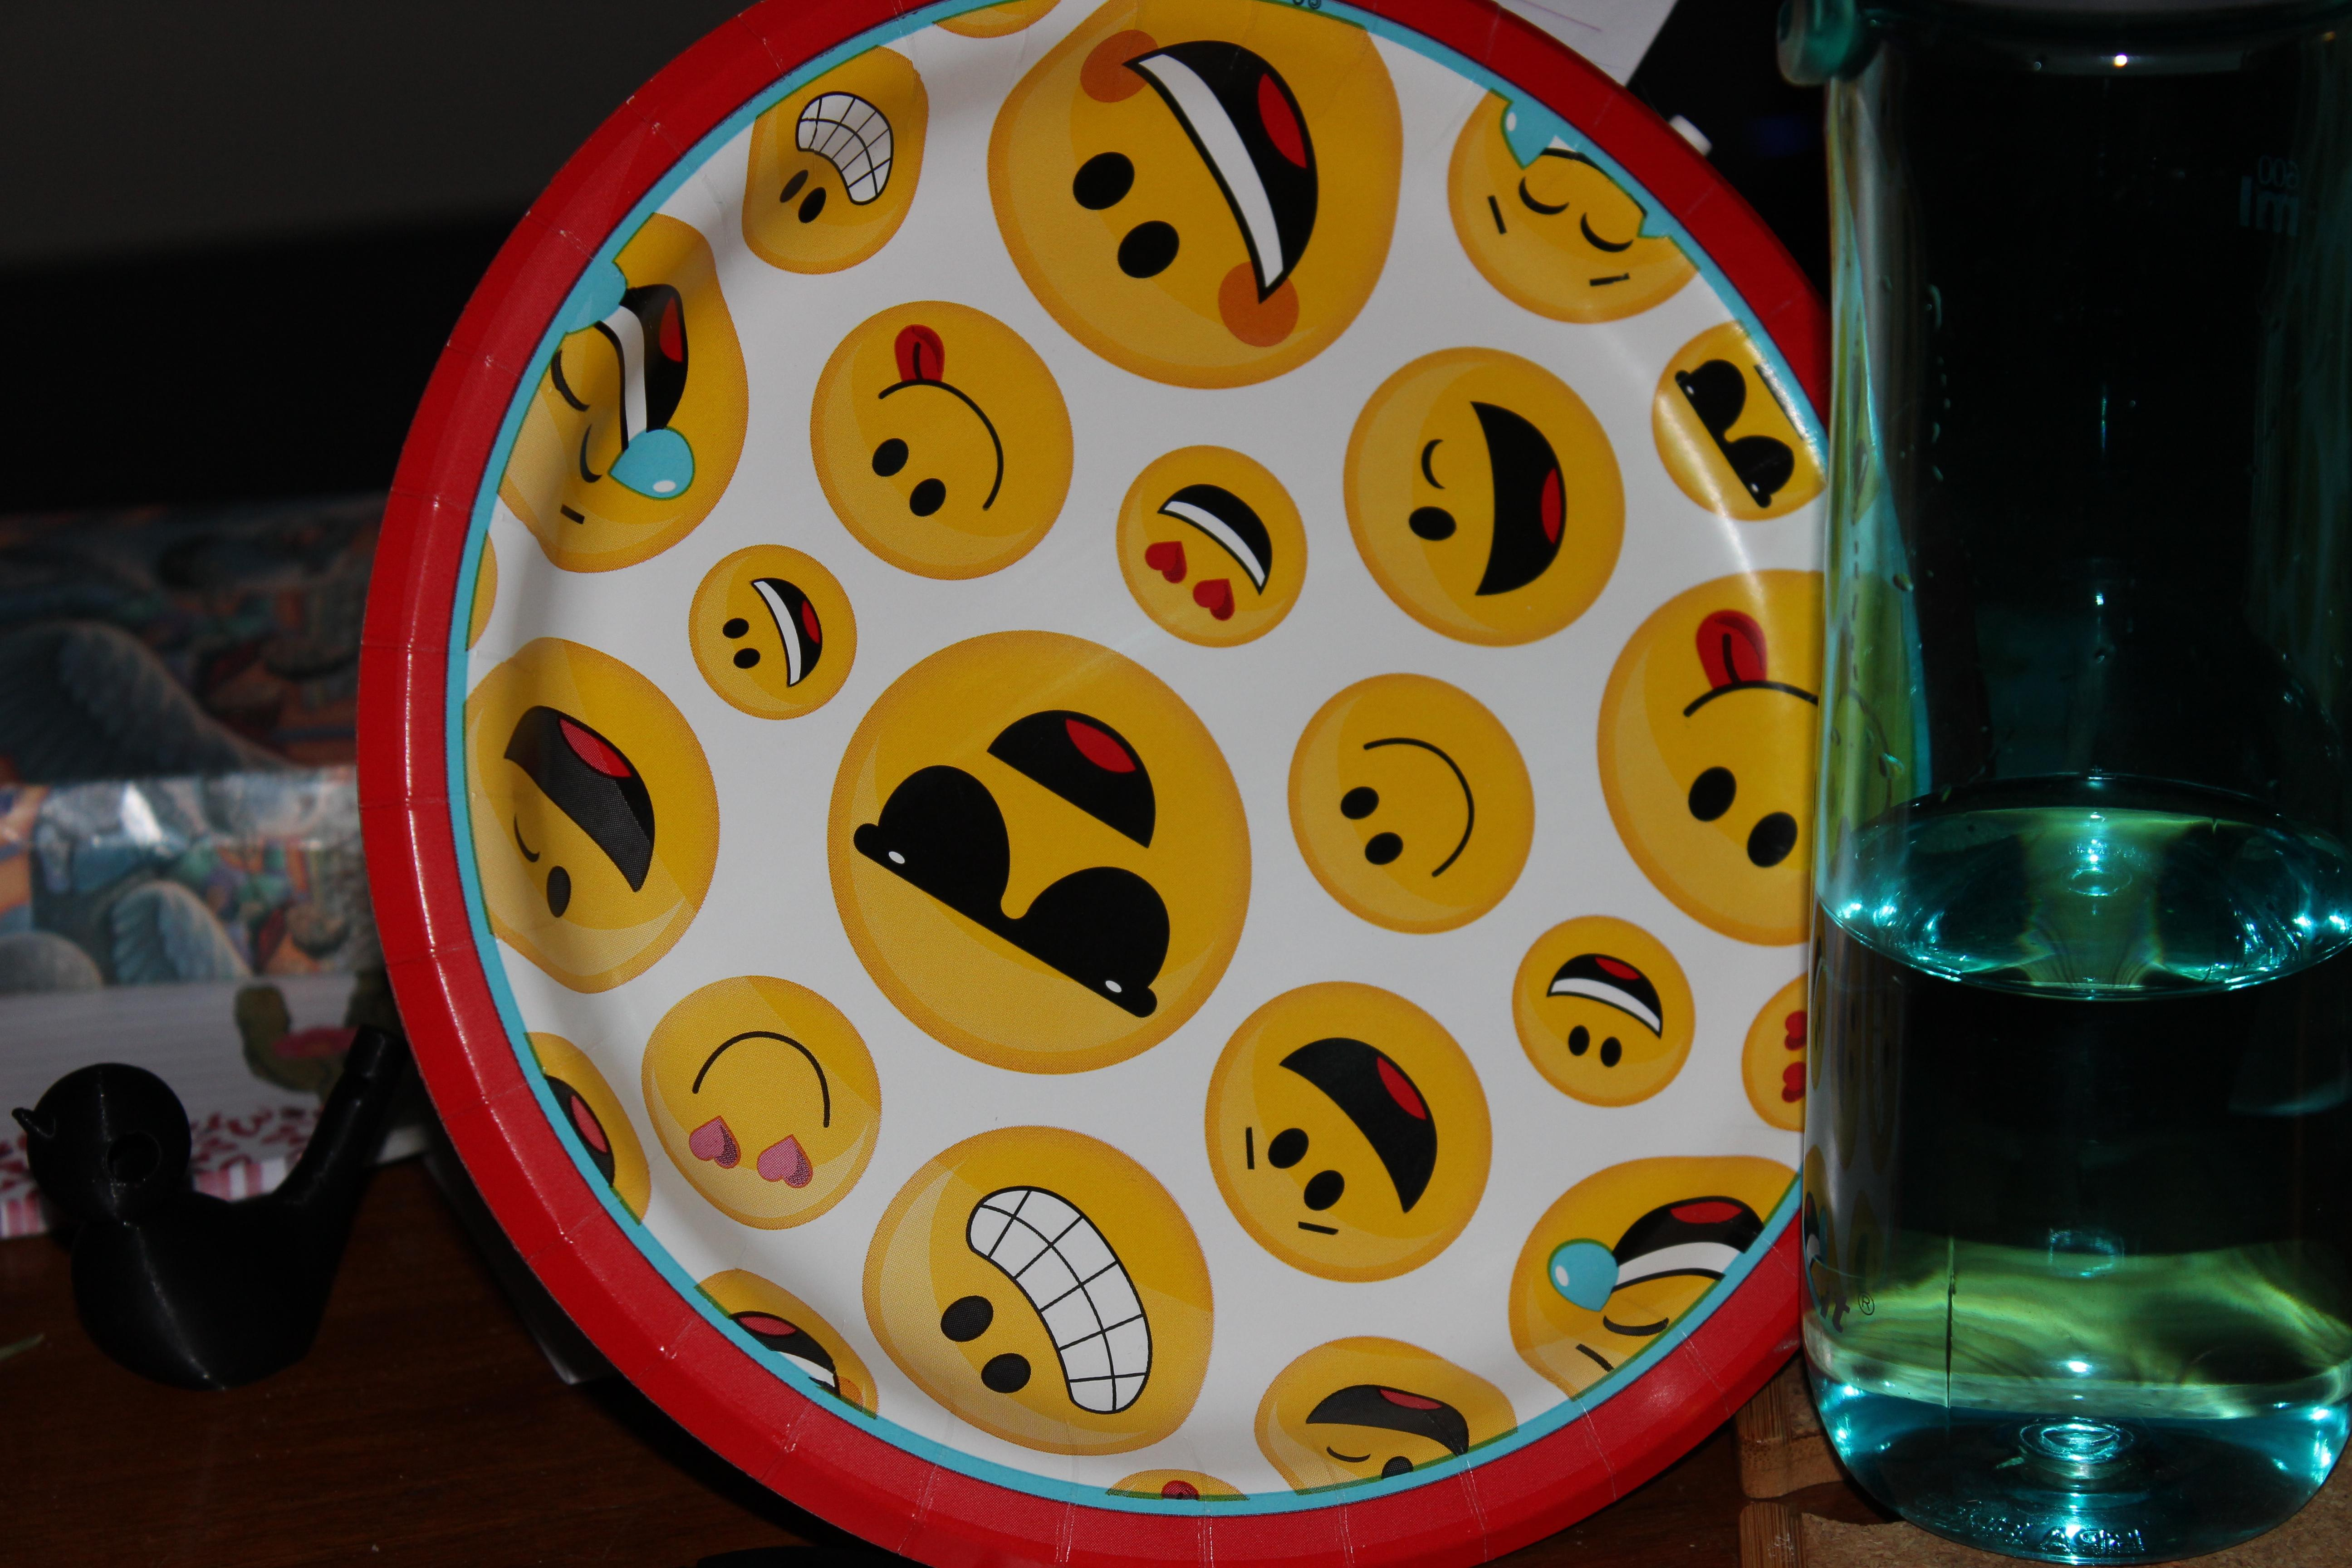paperPlate: (296, 2, 2035, 1568)
